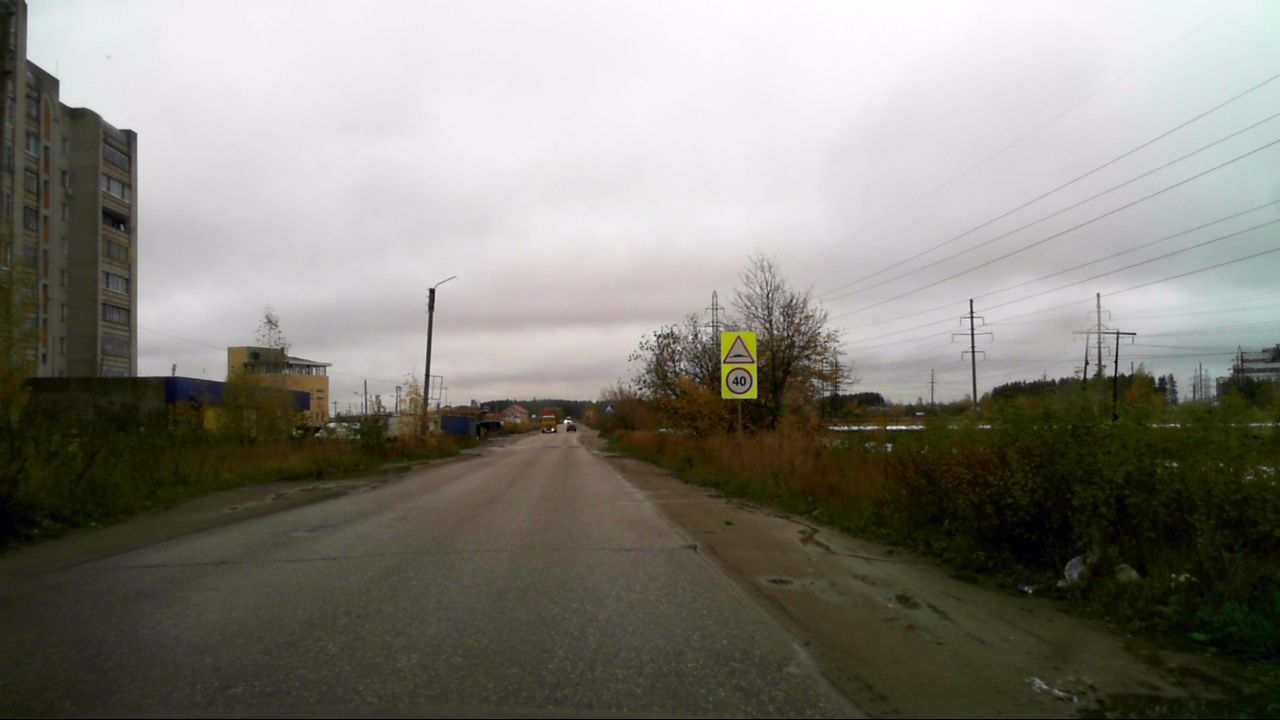speed_warning_40: (725, 367, 752, 394)
